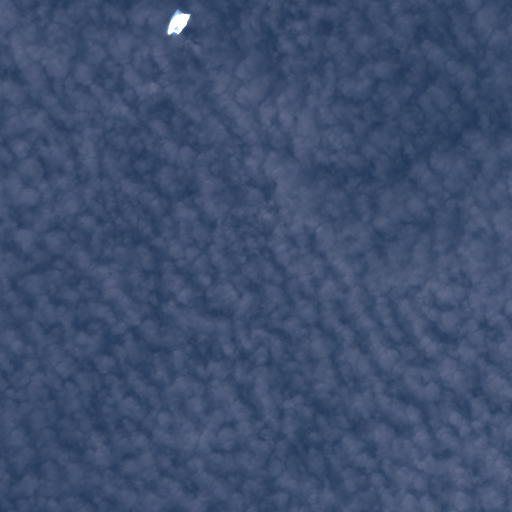Iceberg: (167, 9, 191, 34)
